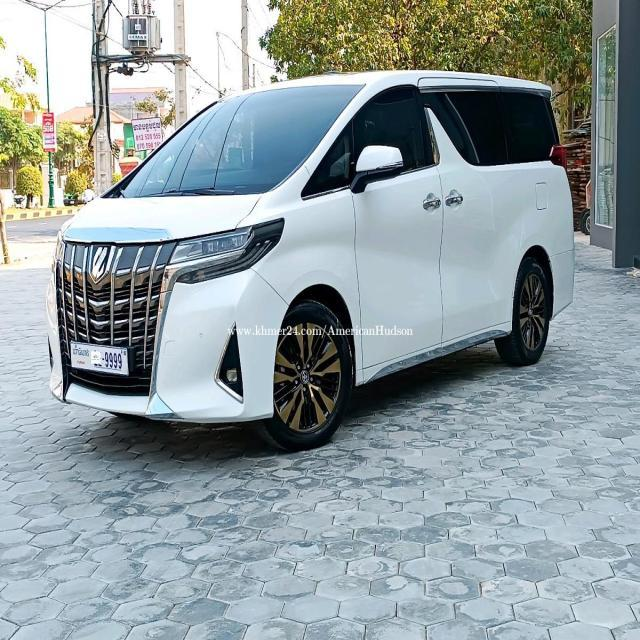Pursat: (73, 348, 89, 357)
